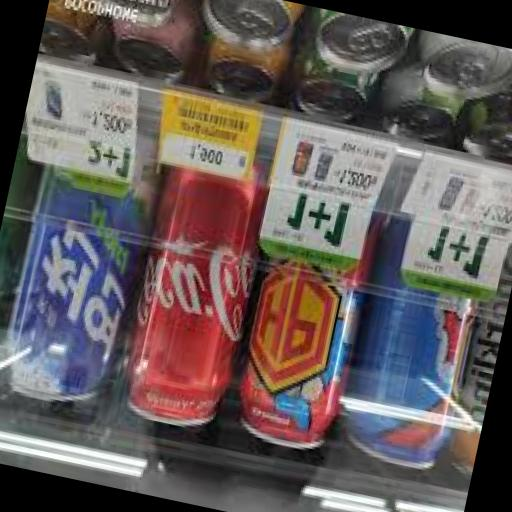Coca: (114, 140, 284, 438)
